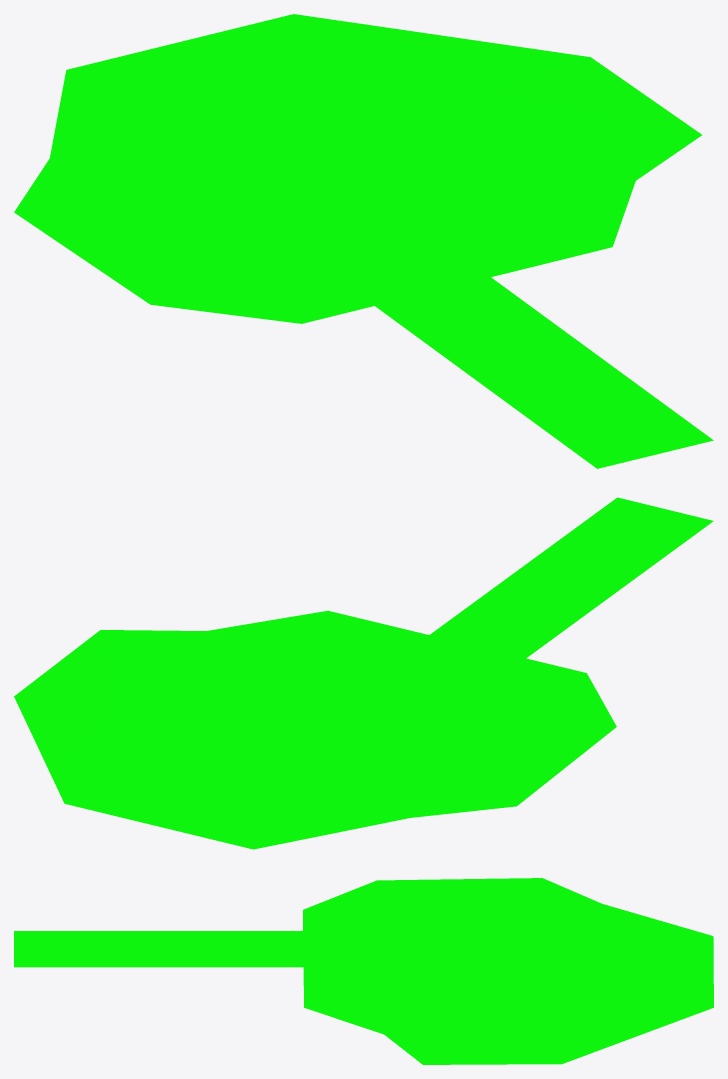
The model's file is s05b_ga1-floor.glb.
3 renders of one model, top to bottom at view 1: azimuth 30°, elevation 25°; view 2: azimuth 150°, elevation 25°; view 3: azimuth 270°, elevation 25°, orthographic. The views are drawn at different scales.
Visible parts, largest first — view 1: collision_floor-colonly; view 2: collision_floor-colonly; view 3: collision_floor-colonly.
Part boxes in pixels (x1,y1,x2,y2): collision_floor-colonly: (14,14,713,468); collision_floor-colonly: (14,497,713,849); collision_floor-colonly: (14,878,713,1064).
Size of the model in its own units: 30.64 by 0.125 by 48.48.
